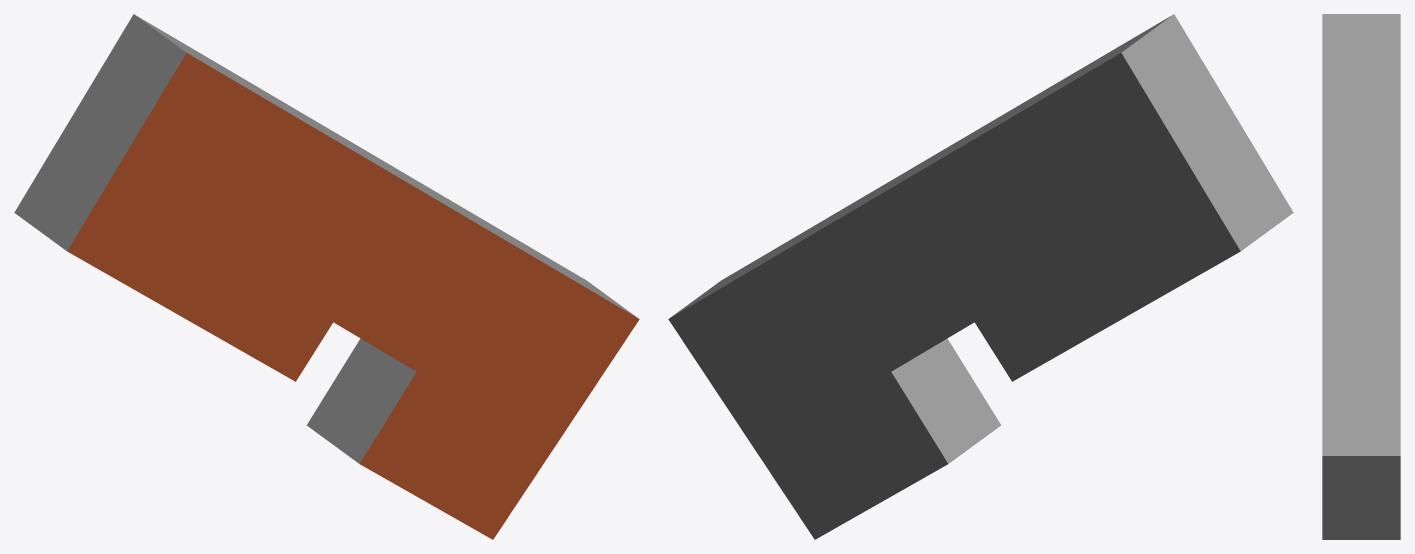
Rendered from construction_0698_assumed_A_Casa_h6m.obj.
3 renders of one model, left to right at view 1: azimuth 30°, elevation 25°; view 2: azimuth 150°, elevation 25°; view 3: azimuth 270°, elevation 25°, orthographic. The views are drawn at different scales.
Visible parts, largest first — view 1: construction_0698_assumed_A_Casa; view 2: construction_0698_assumed_A_Casa; view 3: construction_0698_assumed_A_Casa.
Part boxes in pixels (<box>): construction_0698_assumed_A_Casa: <box>14,14,639,539</box>; construction_0698_assumed_A_Casa: <box>668,14,1293,539</box>; construction_0698_assumed_A_Casa: <box>1322,14,1400,539</box>.
Bounding box in the file's own units: 37.47 × 35.15 × 6.
